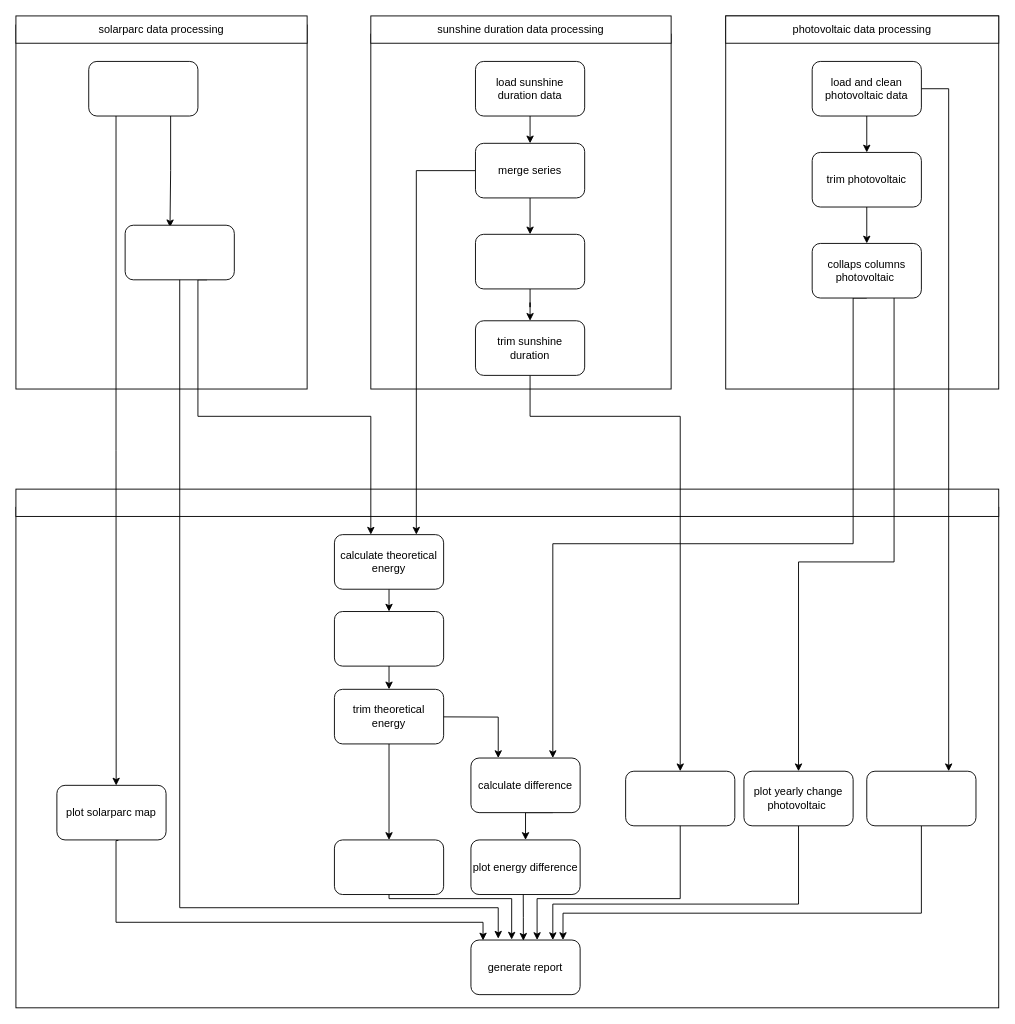
Some shapes in this 1015 by 1024 pixel diagram are drawn without their labels. The shapes that lost their labels are listed below. From the top down, each one's centre as x and y in pixels, then its label:
At (x=143, y=88): "load solarparc data & border data".
At (x=179, y=252): "calculate area".
At (x=530, y=261): "collapse columns sunshine duration".
At (x=507, y=502): "analysis".
At (x=389, y=638): "collapse columns theoretical energy".
At (x=680, y=798): "plot yearly change sunshine".
At (x=921, y=798): "plot monthly change photovoltaic".
At (x=389, y=867): "plot yearly energy change".
